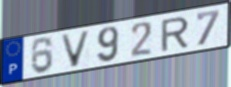2: (129, 21, 154, 59)
6: (30, 36, 54, 76)
7: (195, 7, 222, 48)
9: (95, 24, 123, 64)
R: (160, 15, 191, 53)
V: (59, 29, 93, 69)
